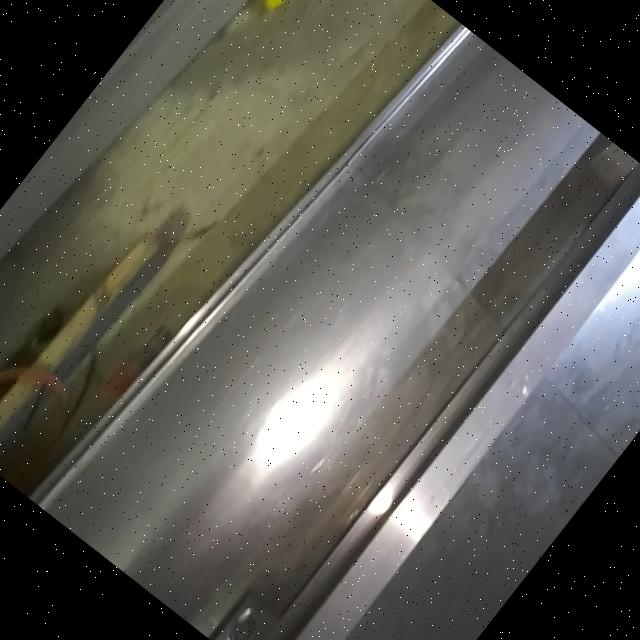blocks: (204, 568, 328, 640), (586, 137, 640, 212)
